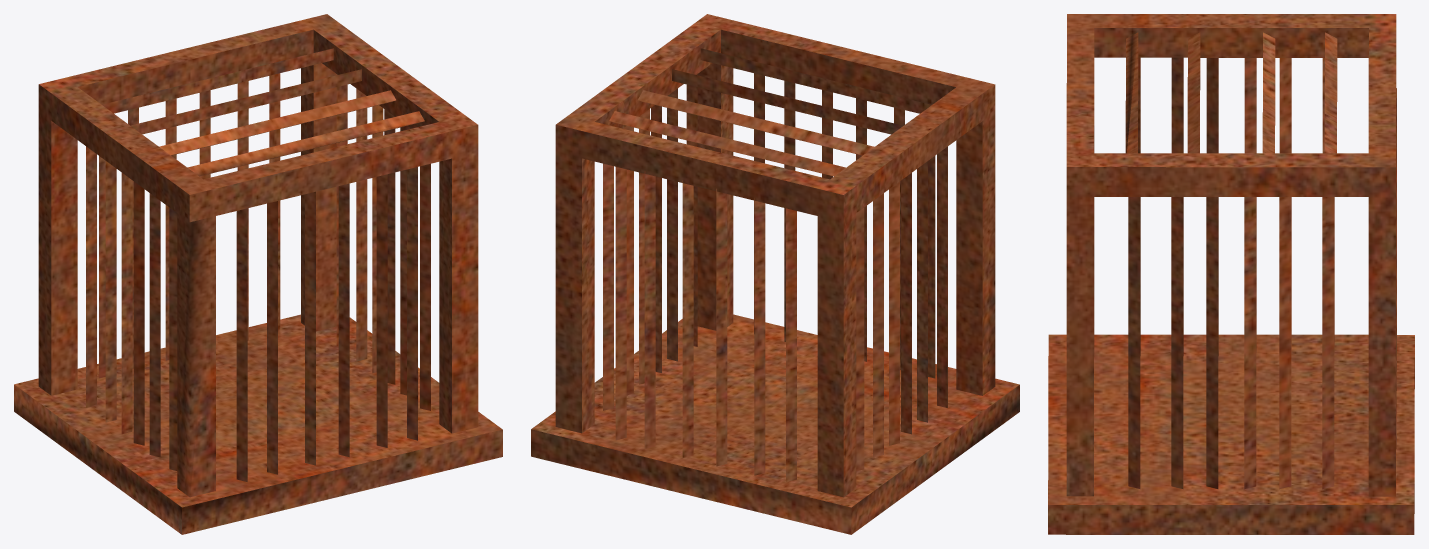
File: cage3.glb
3 renders of one model, left to right at view 1: azimuth 30°, elevation 25°; view 2: azimuth 150°, elevation 25°; view 3: azimuth 270°, elevation 25°, orthographic. The views are drawn at different scales.
Visible parts, largest first — view 1: cageSmallSingle; view 2: cageSmallSingle; view 3: cageSmallSingle.
Part boxes in pixels (x1,y1,x2,y2): cageSmallSingle: (14,14,502,534); cageSmallSingle: (531,14,1019,534); cageSmallSingle: (1048,14,1414,534).
Size of what is drawn, in the model's own units: 0.7838 by 0.7699 by 0.7127.
1 material, 1 textured.
